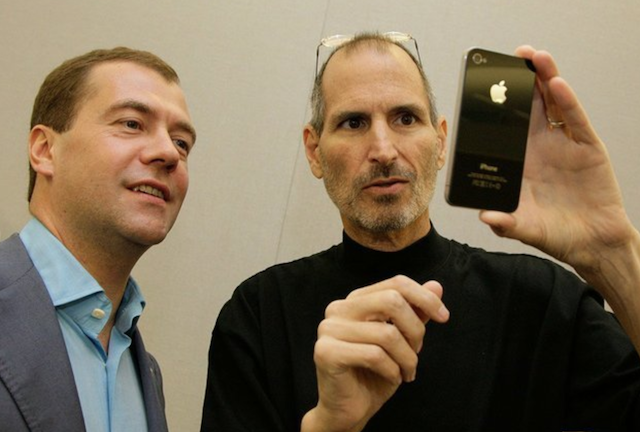clothes: (199, 243, 639, 431), (1, 240, 180, 431)
phone: (438, 32, 538, 222)
